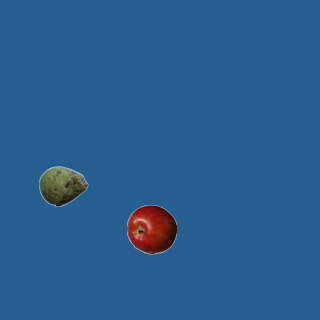Apple Braeburn: (126, 204, 176, 254)
Pear Stone: (38, 161, 88, 211)
